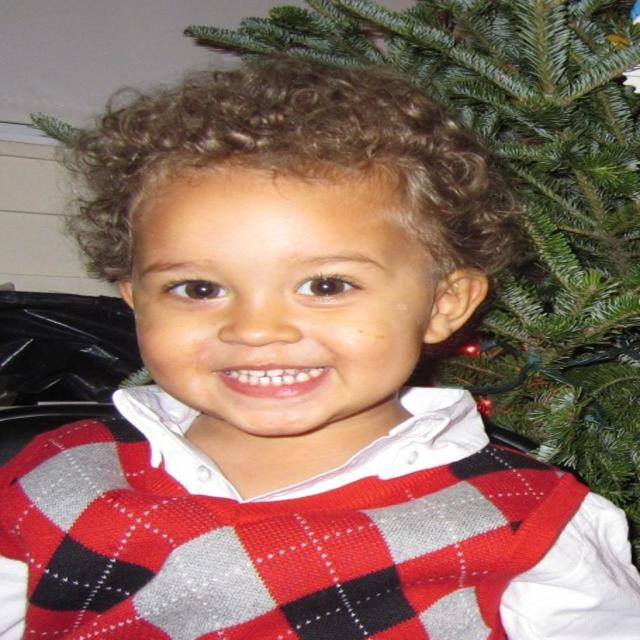Face: (112, 156, 435, 444)
